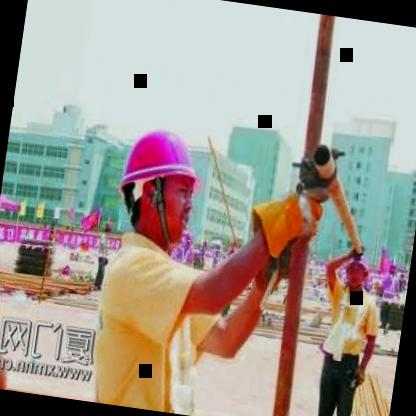helmet: (108, 112, 210, 249), (340, 247, 378, 295)
